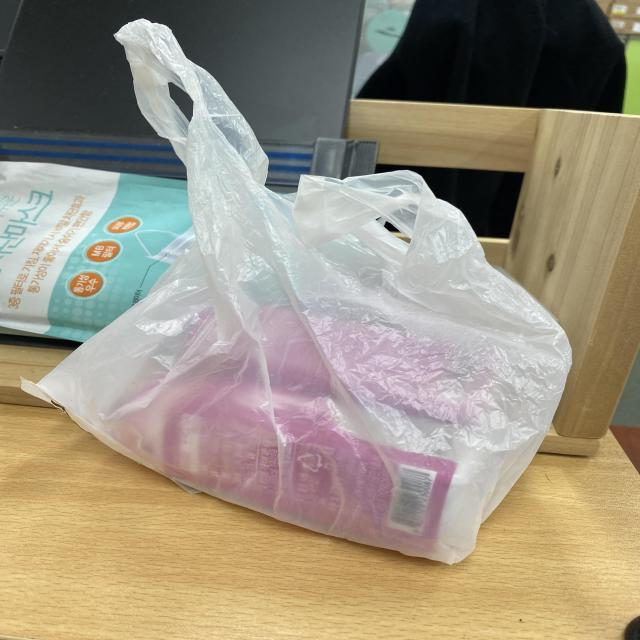litter: (23, 17, 573, 565)
